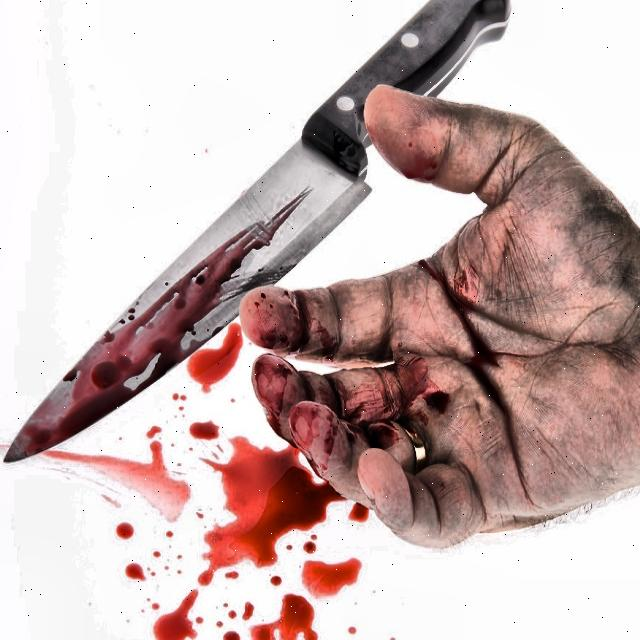knife: (4, 0, 512, 464)
